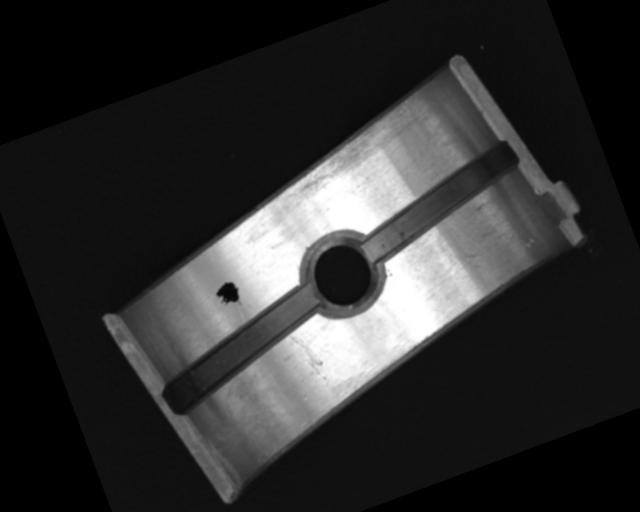blot: (211, 277, 244, 313)
bruise: (458, 249, 481, 264), (521, 234, 539, 249)
gap: (145, 281, 337, 416), (344, 138, 534, 265)
hole: (293, 221, 393, 323)
nick: (288, 326, 330, 386)
scratch: (262, 97, 434, 208)
